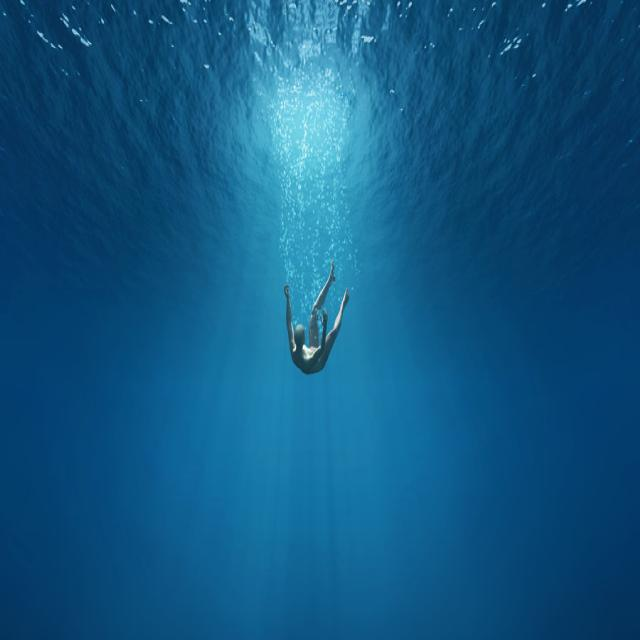drowning: (261, 244, 384, 405)
